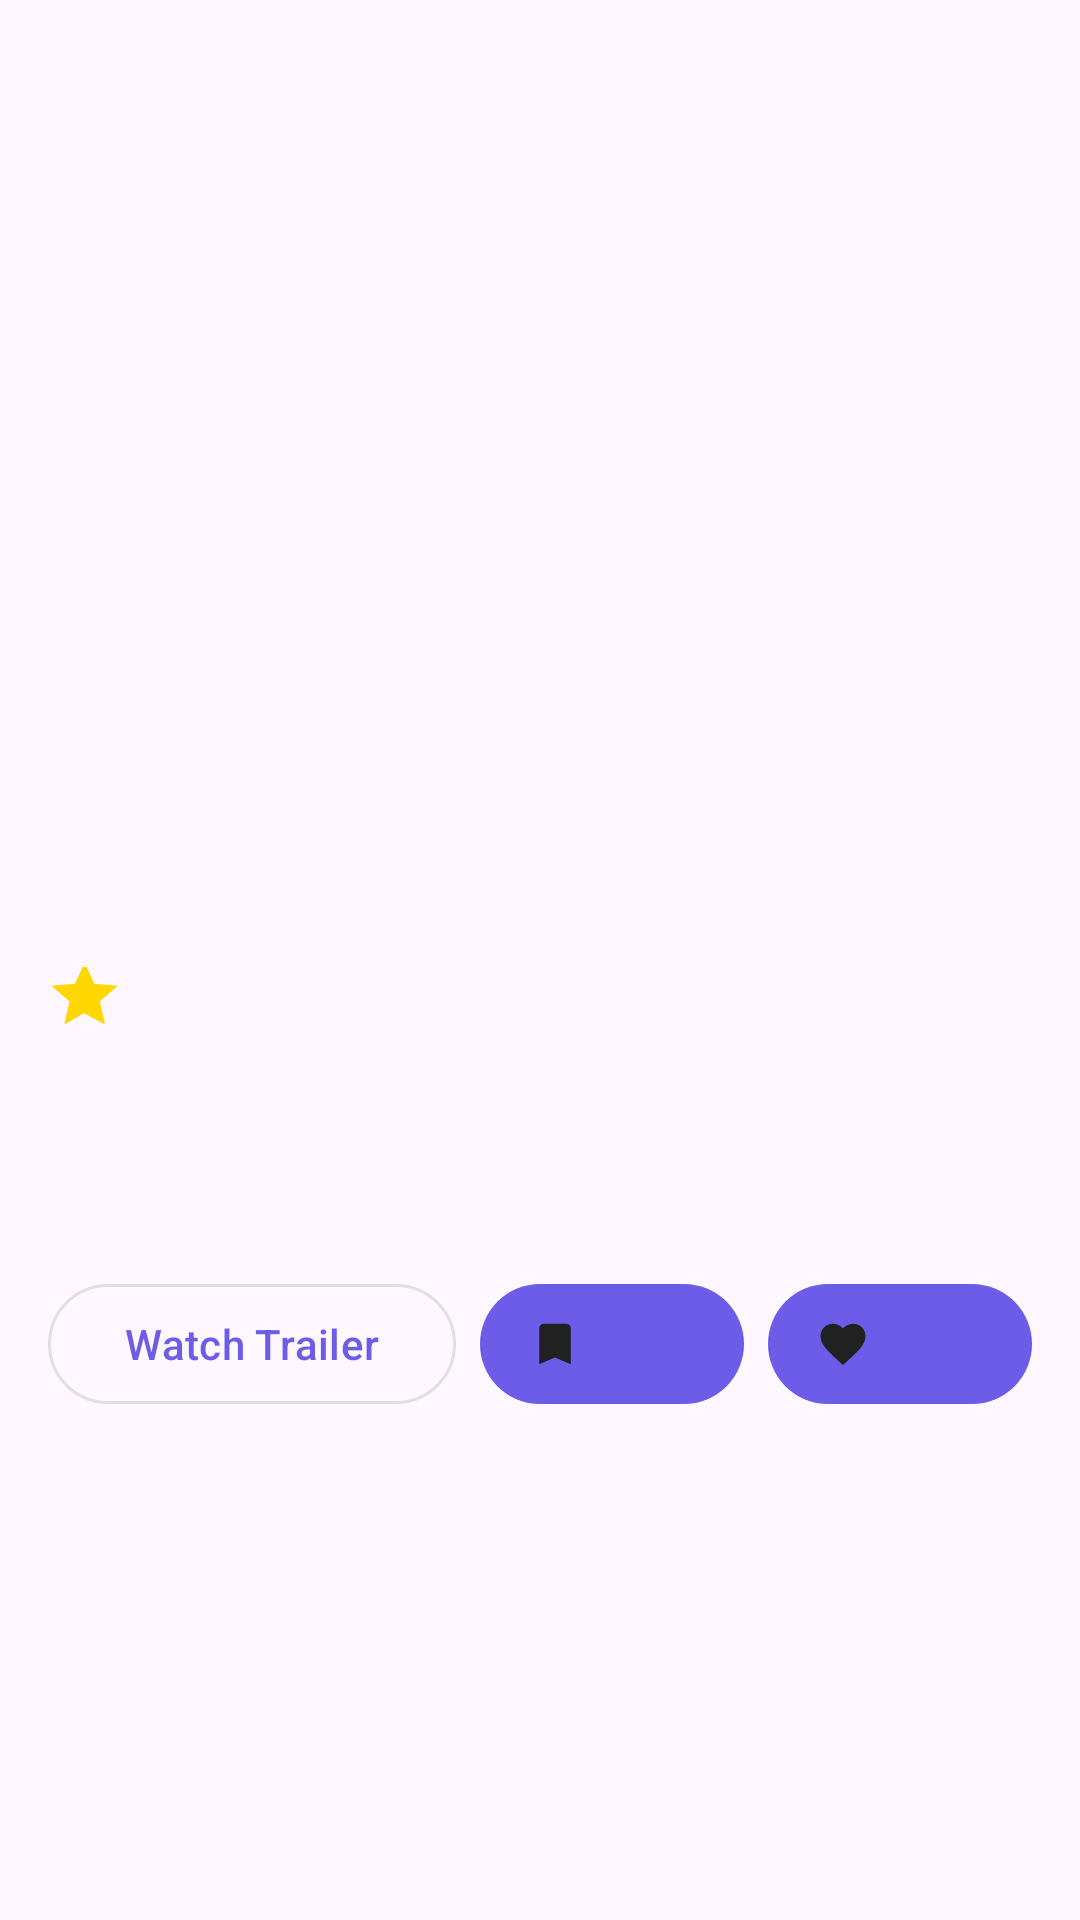

Named icons in this screenshot (1080px x 1920px) and their centers, [x,y]:
bookmark: [612,1344]
favorite border: [900,1344]
